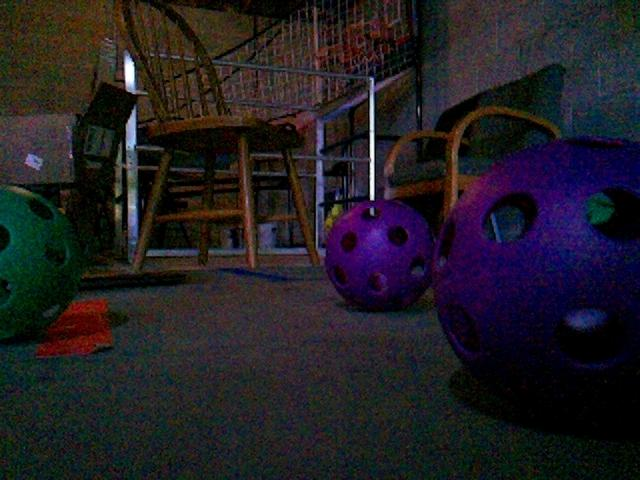Green: (1, 183, 80, 344)
Purple: (436, 135, 640, 419), (327, 202, 432, 309)
